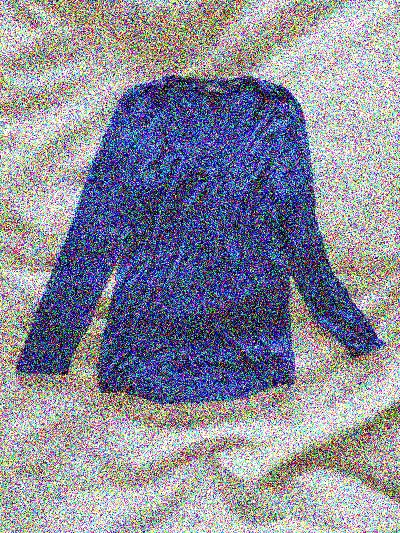Dress: (19, 82, 387, 403)
